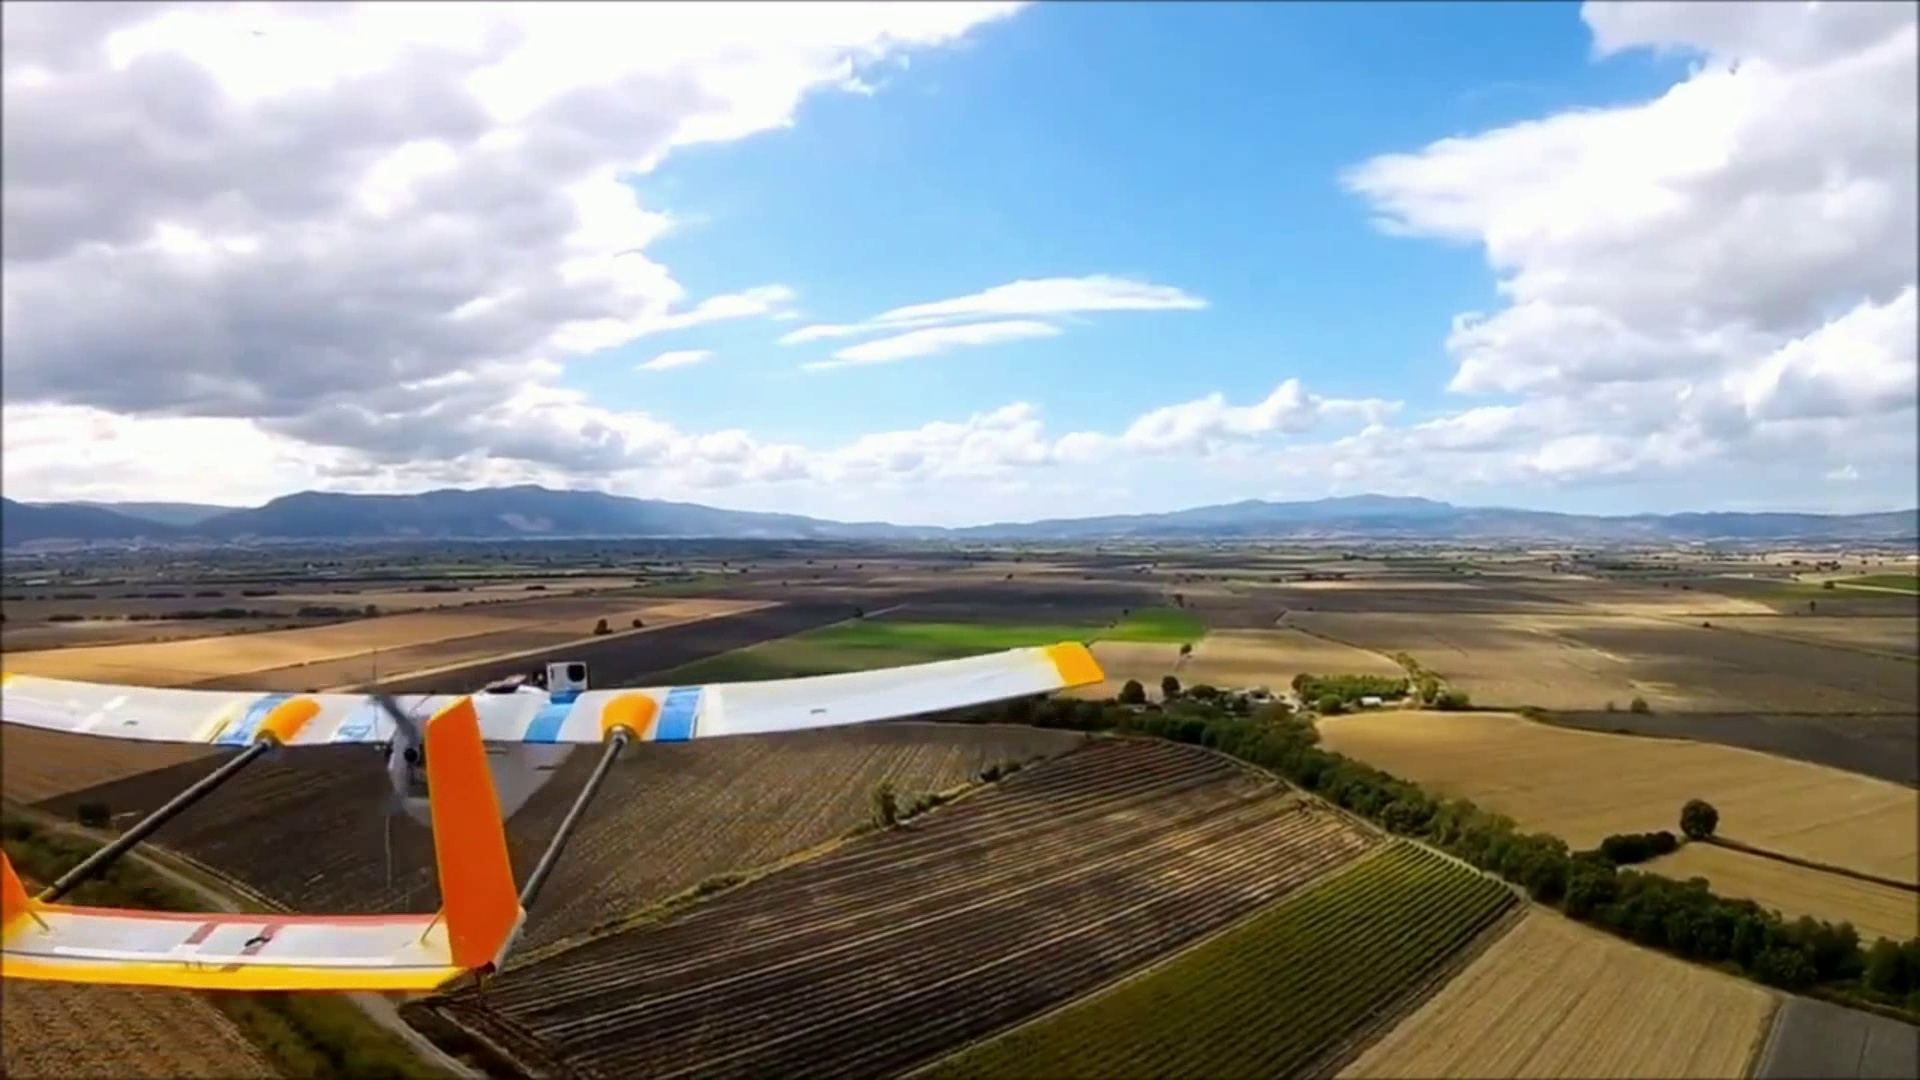airplane: (2, 618, 1130, 998)
